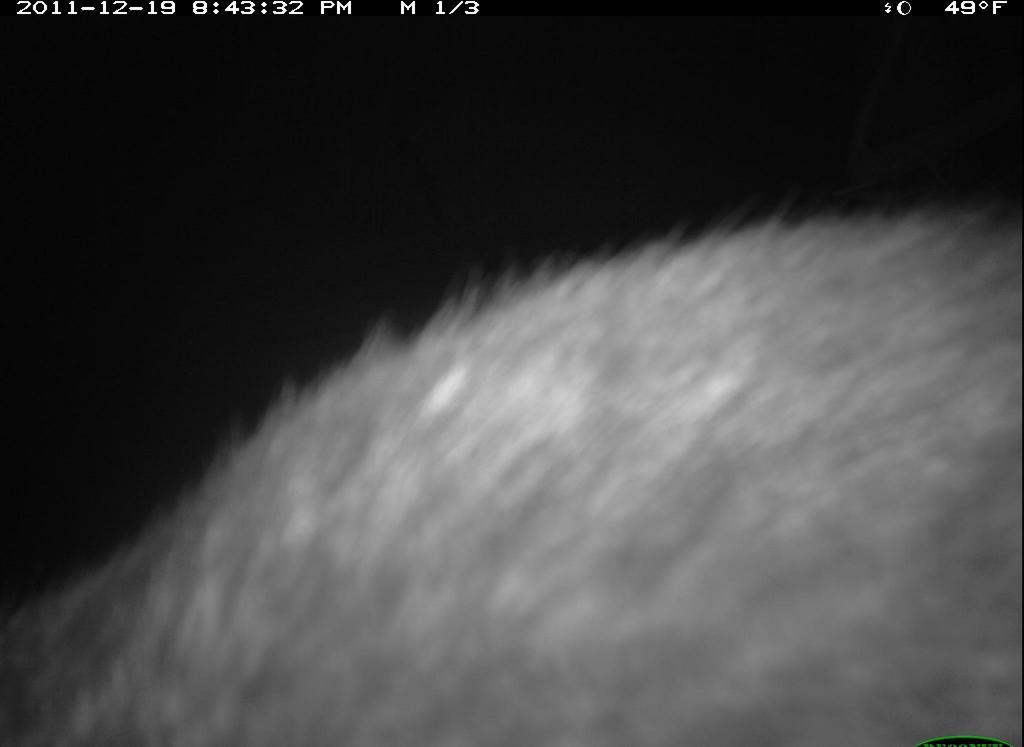raccoon: (2, 185, 1022, 744)
